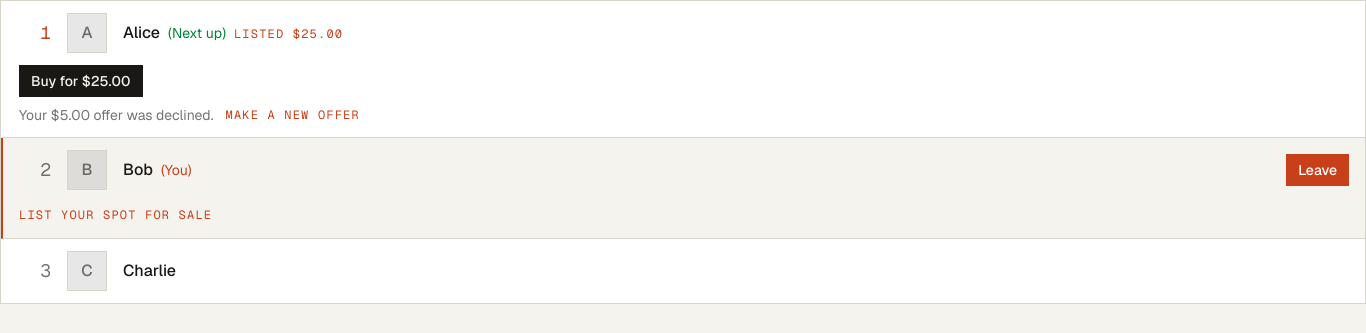
Test: QueueDisplay › lets the buyer make a new offer after one was declined (no dead end)
What coordinates should you click on to do the following:
click the button "Make a New Offer"
I would click on:
 (293, 115)
Its box is [226,107,360,123].
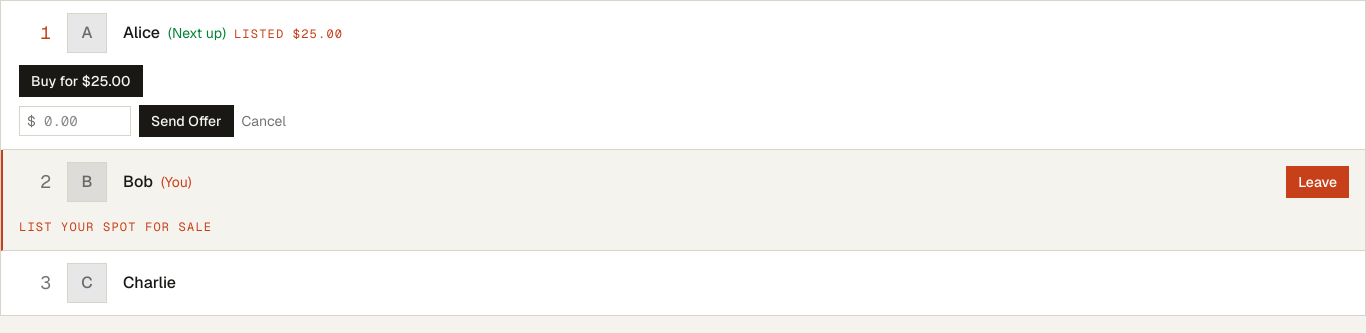
Check: the button "Send Offer" is shown, box [139,105,234,137]
